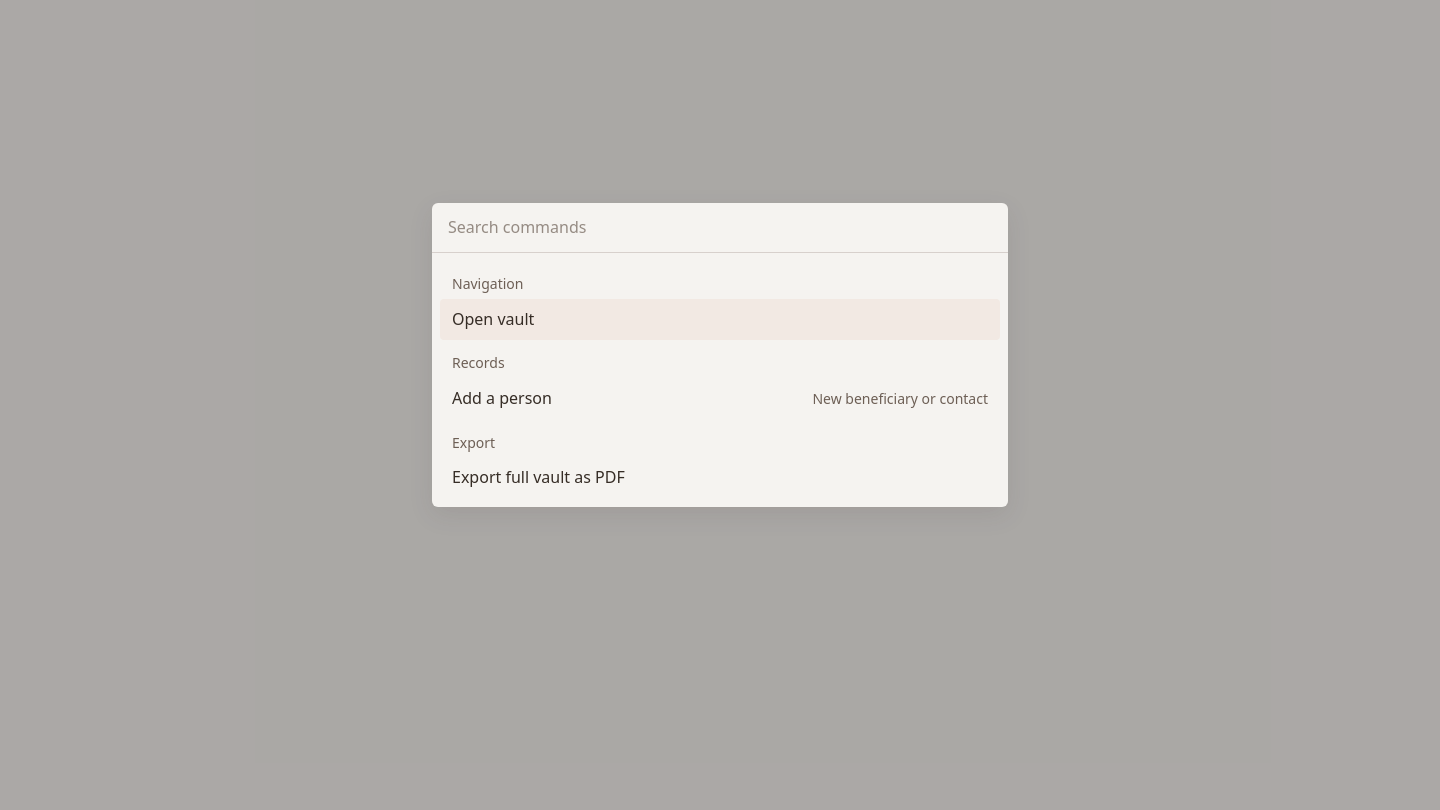
Test: UiCommand › filters items by fuzzy match on the input
Type "beneficiary" into the dropdown with placeholder "Search commands". click: (720, 227)
box: [448, 214, 992, 240]
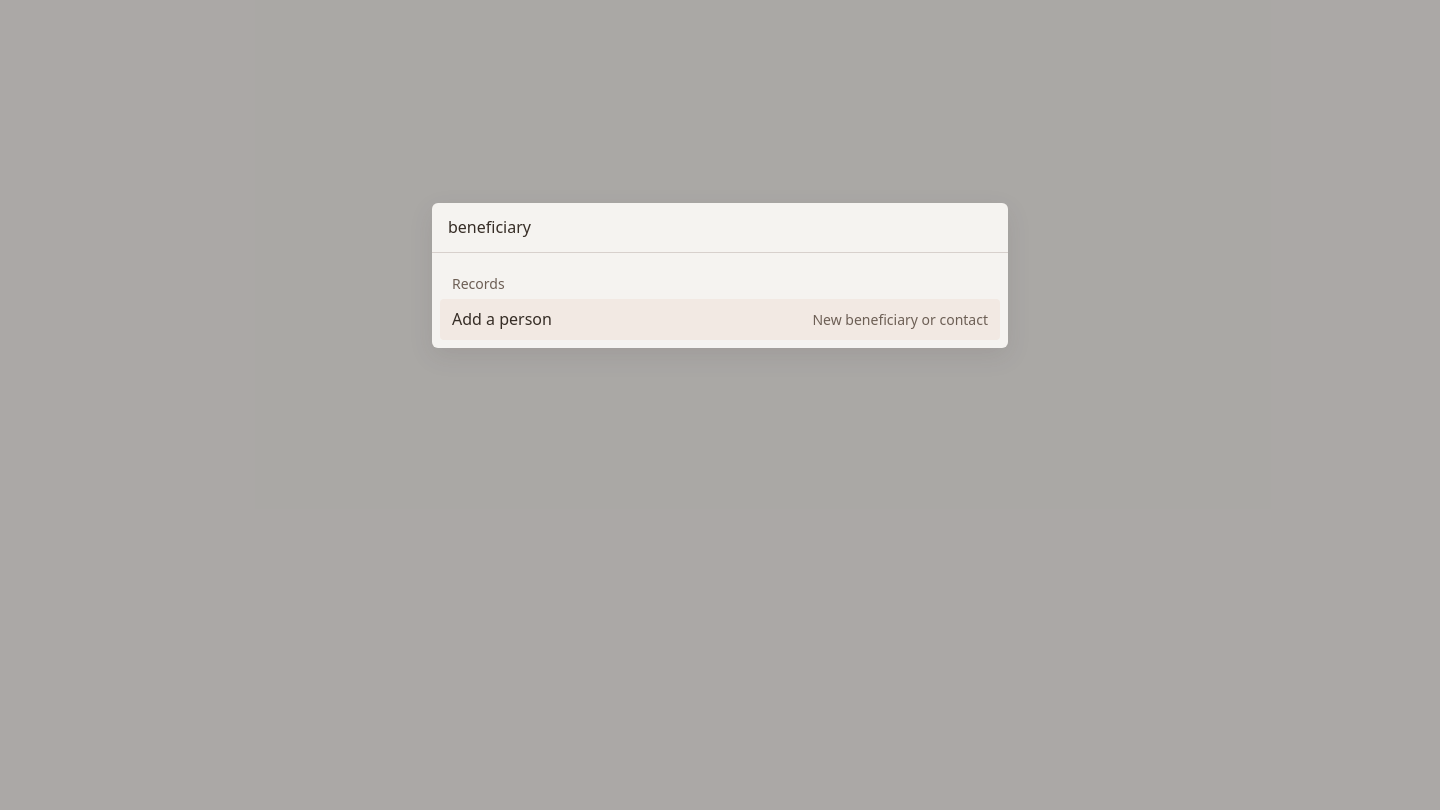
Check: the text "Add a person" is shown, box [452, 307, 552, 332]
Check: the text "Export full vault as PDF" is gone
